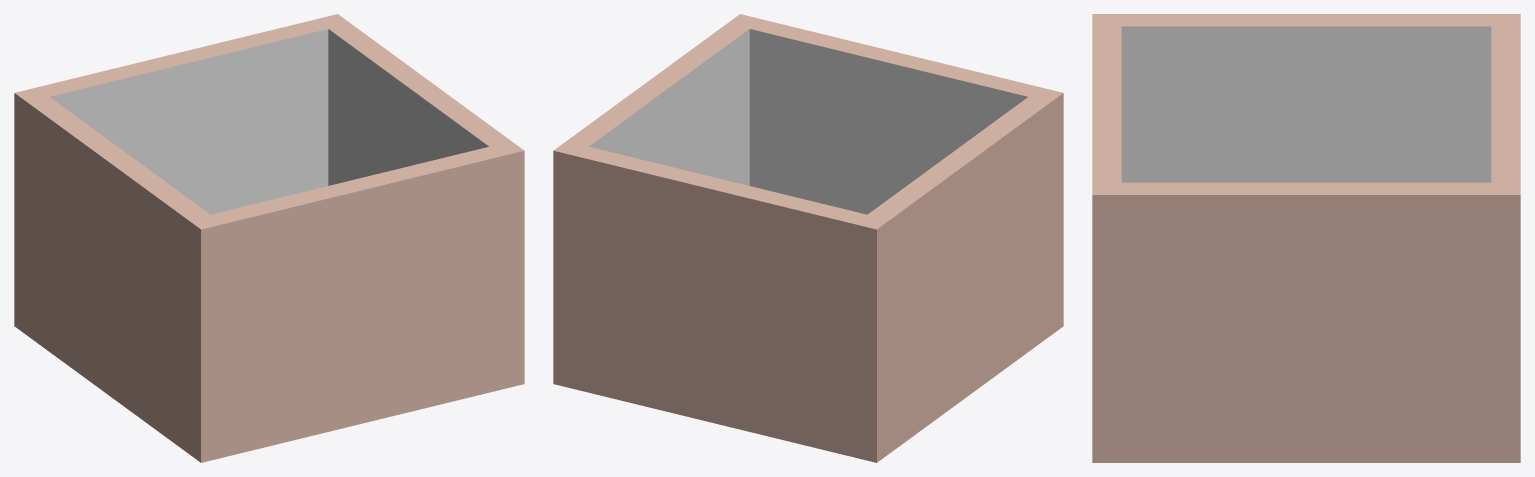
The model's file is Piece.fbx.
The picture shows the model from 3 angles, left to right: view 1: azimuth 30°, elevation 25°; view 2: azimuth 150°, elevation 25°; view 3: azimuth 270°, elevation 25°; orthographic projection. The views are drawn at different scales.
Visible parts, largest first — view 1: mur_3, mur_4, mur_1, mur_2; view 2: mur_1, mur_4, mur_3, mur_2; view 3: mur_2, mur_4, mur_3, mur_1.
Boxes of the visible parts, x1,y1,x2,y2 form: mur_3: (211,146,502,457); mur_4: (14,87,223,462); mur_1: (37,19,328,214); mur_2: (316,14,524,389); mur_1: (575,146,866,457); mur_4: (854,87,1063,462); mur_3: (749,19,1040,214); mur_2: (553,14,761,389); mur_2: (1092,182,1520,462); mur_4: (1092,14,1520,182); mur_3: (1092,26,1121,182); mur_1: (1491,26,1520,182).
Size of the model in its own units: 1160 by 800 by 1160.
